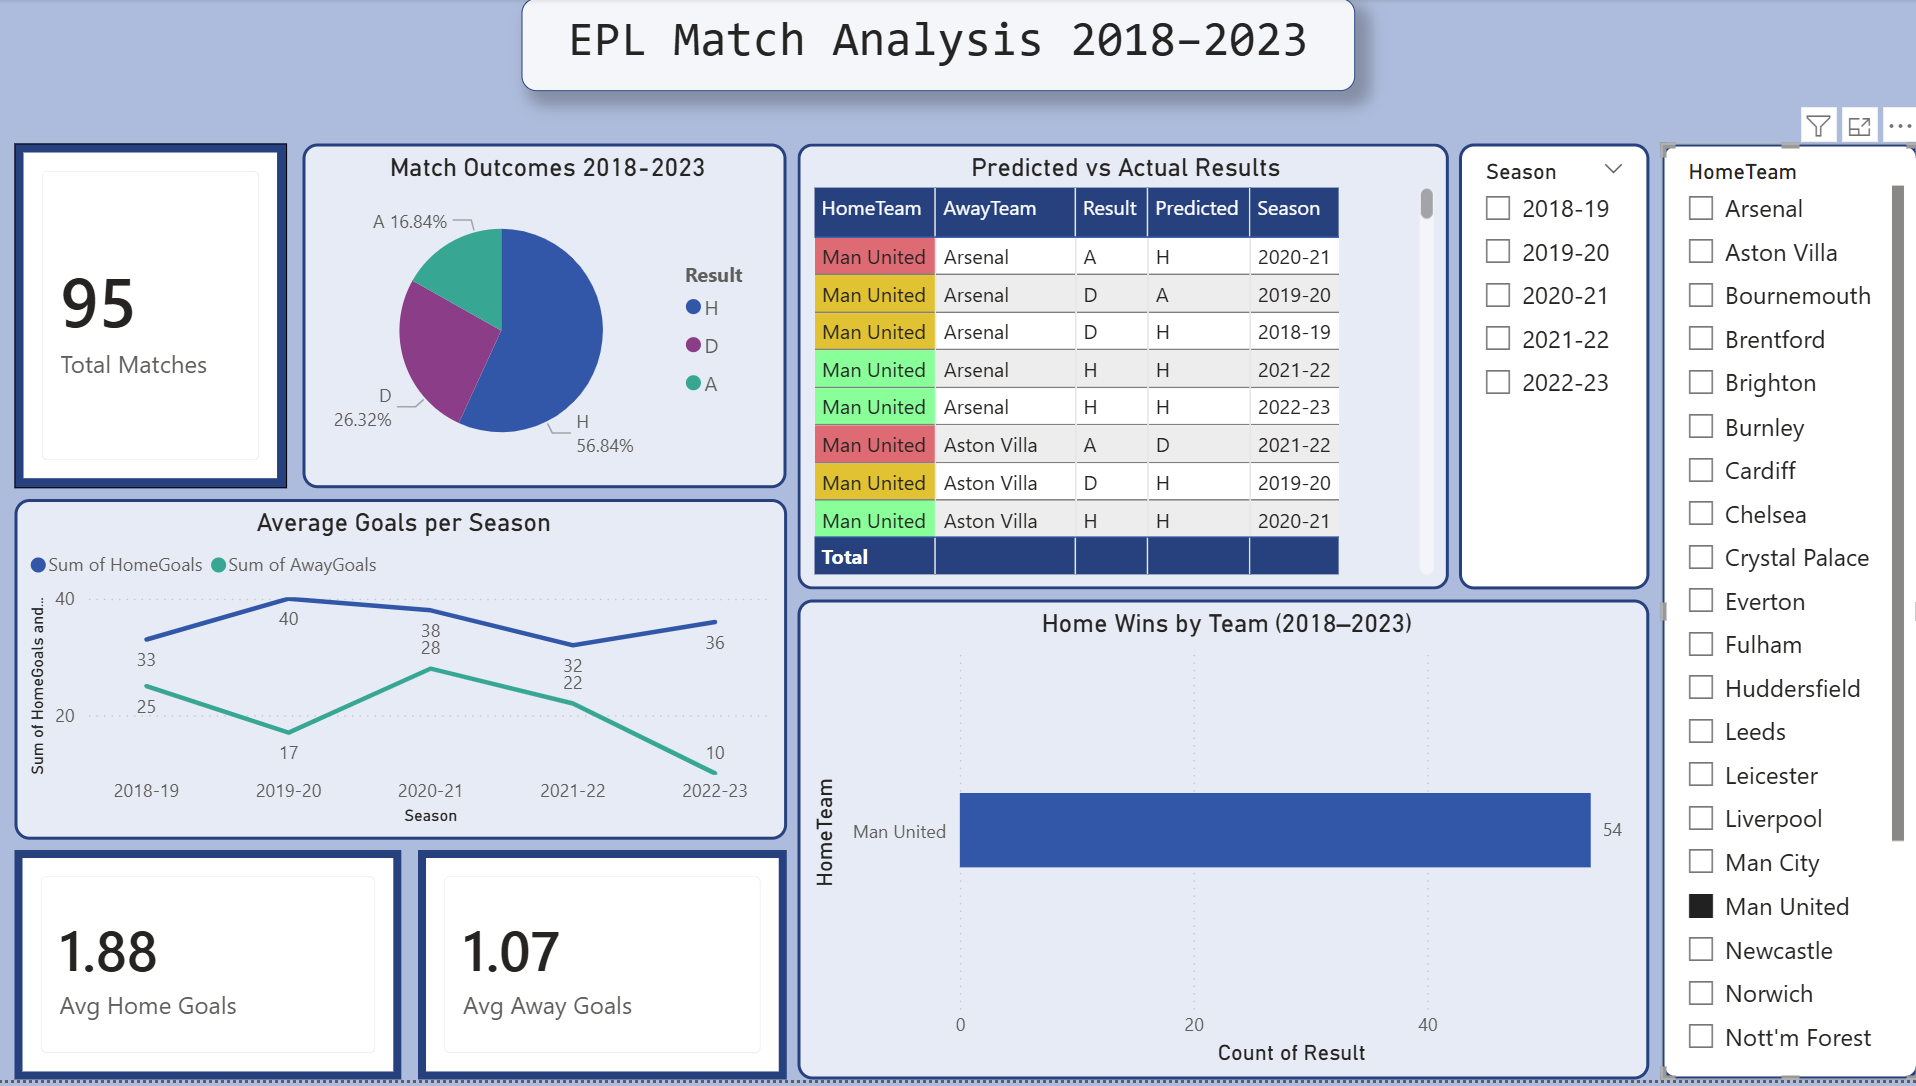

What the dashboard file says about the page in this screenshot:
{"tool":"powerbi","page":{"name":"Page 1","canvas":[1280,720],"ordinal":0},"visuals":[{"type":"pieChart","title":"Match Outcomes 2018-2023","fields":{"Category":["epl_clean_with_predictions.Result"],"Y":["CountNonNull(epl_clean_with_predictions.Result)"]},"box":[204.6,96.8,322.3,229.5],"z":0},{"type":"lineChart","title":"Average Goals per Season","fields":{"Category":["epl_clean_with_predictions.Season"],"Y":["Sum(epl_clean_with_predictions.HomeGoals)","Sum(epl_clean_with_predictions.AwayGoals)"]},"box":[13,333.3,513.9,226.5],"z":1000},{"type":"clusteredBarChart","title":"Home Wins by Team (2018–2023)","fields":{"Category":["epl_clean_with_predictions.HomeTeam"],"Y":["CountNonNull(epl_clean_with_predictions.Result)"]},"box":[533.9,400.2,566.8,319.3],"z":2000},{"type":"tableEx","title":"Predicted vs Actual Results","fields":{"Values":["epl_clean_with_predictions.HomeTeam","epl_clean_with_predictions.AwayTeam","epl_clean_with_predictions.Result","epl_clean_with_predictions.Predicted","epl_clean_with_predictions.Season"]},"box":[533.9,96.8,433.1,296.4],"z":3000},{"type":"slicer","fields":{"Values":["epl_clean_with_predictions.Season"]},"box":[974,96.8,126.7,296.4],"z":4000},{"type":"slicer","fields":{"Values":["epl_clean_with_predictions.HomeTeam"]},"box":[1108.7,96.8,171.6,622.7],"z":5000},{"type":"textbox","box":[350.3,0,554.8,61.9],"z":6000},{"type":"cardVisual","fields":{"Data":["CountNonNull(epl_clean_with_predictions.Result)"]},"box":[13,96.8,181.6,229.5],"z":7000},{"type":"cardVisual","fields":{"Data":["Avg(epl_clean_with_predictions.HomeGoals)"]},"box":[13,566.8,257.5,152.7],"z":8000},{"type":"cardVisual","fields":{"Data":["Avg(epl_clean_with_predictions.AwayGoals)"]},"box":[281.4,566.8,245.5,152.7],"z":9000}]}

Visuals, with their boxes in screenshot pixels (x1, y1, x2, y2):
"Match Outcomes 2018-2023" pieChart: 307, 153, 783, 492
"Average Goals per Season" lineChart: 24, 502, 783, 836
"Home Wins by Team (2018–2023)" clusteredBarChart: 793, 601, 1630, 1072
"Predicted vs Actual Results" tableEx: 793, 153, 1432, 590
slicer - epl_clean_with_predictions.Season: 1443, 153, 1630, 590
slicer - epl_clean_with_predictions.HomeTeam: 1642, 153, 1895, 1072
textbox: 522, 10, 1341, 101
cardVisual - CountNonNull(epl_clean_with_predictions.Result): 24, 153, 292, 492
cardVisual - Avg(epl_clean_with_predictions.HomeGoals): 24, 847, 404, 1072
cardVisual - Avg(epl_clean_with_predictions.AwayGoals): 420, 847, 783, 1072
